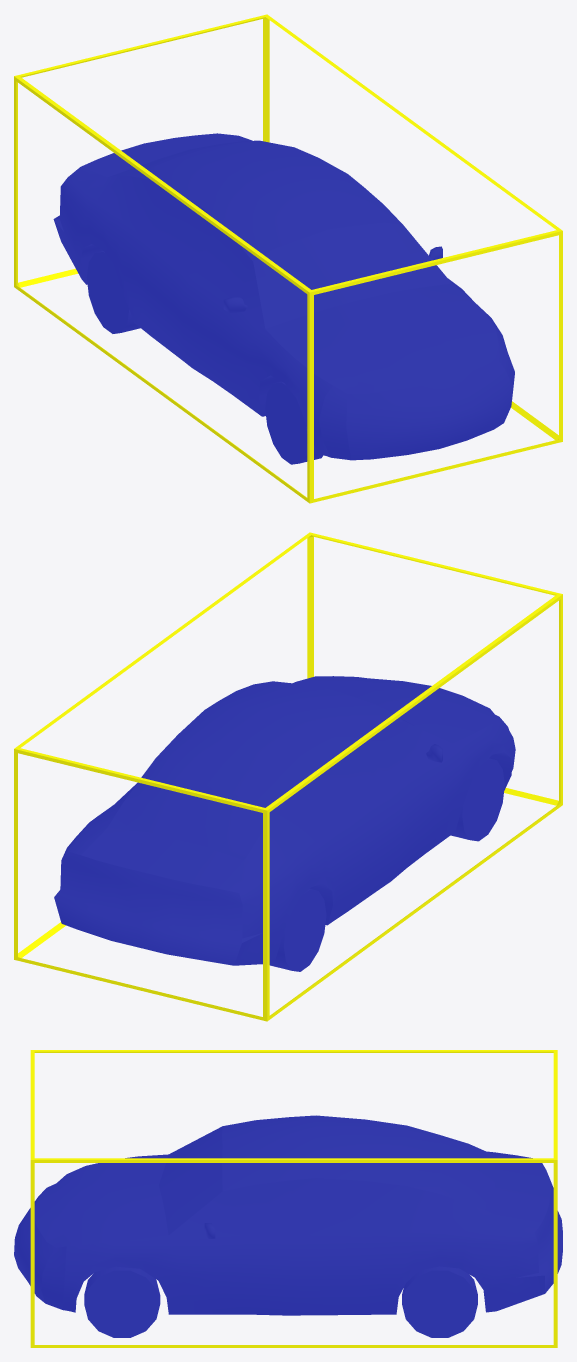
The model's file is carbox.glb.
3 renders of one model, top to bottom at view 1: azimuth 30°, elevation 25°; view 2: azimuth 150°, elevation 25°; view 3: azimuth 270°, elevation 25°, orthographic. The views are drawn at different scales.
Visible parts, largest first — view 1: car, Cube_Line; view 2: car, Cube_Line; view 3: car, Cube_Line.
Boxes of the visible parts, left/top/right/bottom form: car: left=53, top=133, right=514, bottom=464; Cube_Line: left=14, top=14, right=562, bottom=503; car: left=54, top=676, right=515, bottom=971; Cube_Line: left=14, top=532, right=562, bottom=1021; car: left=14, top=1115, right=562, bottom=1337; Cube_Line: left=30, top=1050, right=557, bottom=1347.
Bounding box in the file's own units: 2.2 × 1.77 × 4.64.
